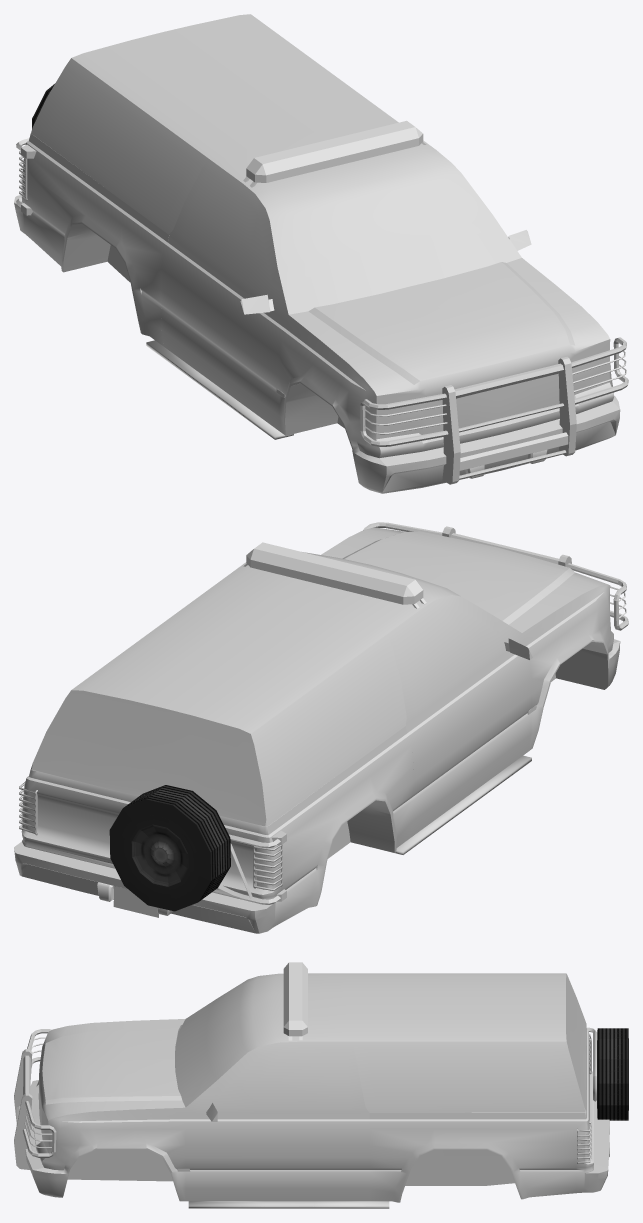
The model's file is RangerCharro.fbx.
3 views of the same model, one above another, from view 1: azimuth 30°, elevation 25°; view 2: azimuth 150°, elevation 25°; view 3: azimuth 270°, elevation 25° (orthographic). The views are drawn at different scales.
Visible parts, largest first — view 1: RunningBoards; view 2: RunningBoards, SpareTyre; view 3: RunningBoards, SpareTyre.
Boxes of the visible parts, <box> form: RunningBoards: <box>14,14,628,493</box>; RunningBoards: <box>14,522,628,933</box>; SpareTyre: <box>109,785,230,911</box>; RunningBoards: <box>14,962,609,1208</box>; SpareTyre: <box>597,1028,628,1120</box>.
Bounding box in the file's own units: 2.14 × 1.53 × 5.06.
